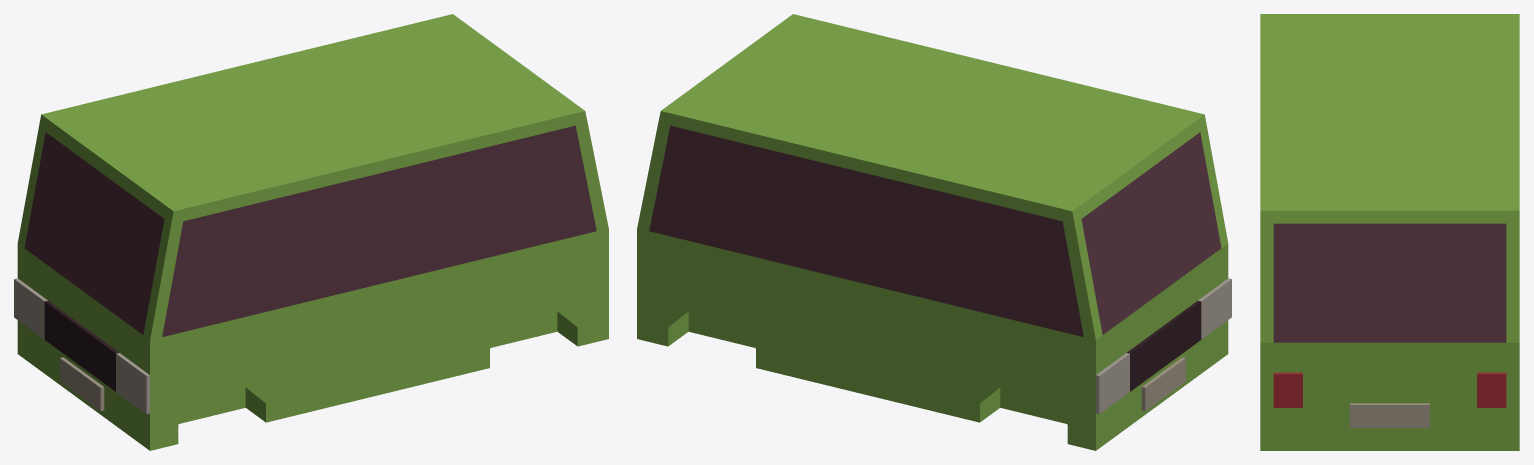
File: MiniVan_Green.fbx
The picture shows the model from 3 angles, left to right: view 1: azimuth 30°, elevation 25°; view 2: azimuth 150°, elevation 25°; view 3: azimuth 270°, elevation 25°; orthographic projection. The views are drawn at different scales.
Parts seen in each view (by area): view 1: MiniVan_Green, MiniVan_Lights; view 2: MiniVan_Green, MiniVan_Lights; view 3: MiniVan_Green, MiniVan_Lights.
Part boxes in pixels (x1,y1,x2,y2): MiniVan_Green: [17, 14, 608, 450]; MiniVan_Lights: [14, 278, 149, 414]; MiniVan_Green: [637, 14, 1228, 450]; MiniVan_Lights: [1096, 278, 1231, 414]; MiniVan_Green: [1260, 14, 1519, 450]; MiniVan_Lights: [1273, 372, 1506, 407].
Bounding box in the file's own units: 3.96 × 1.9 × 1.95.
